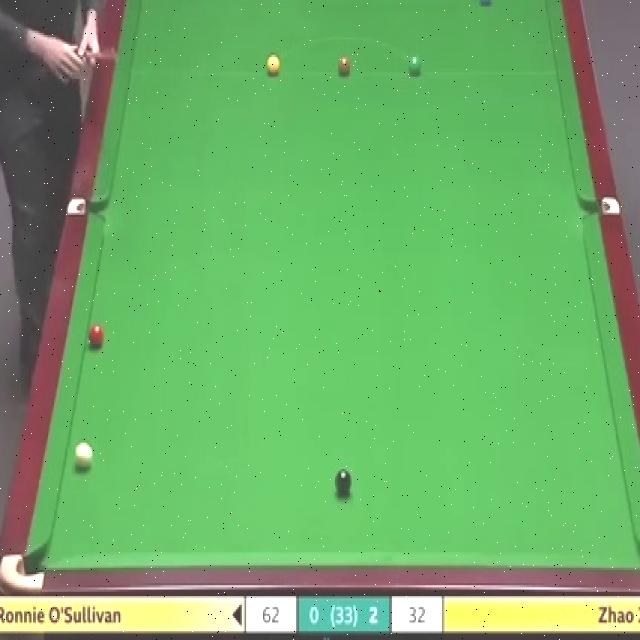black-ball: (335, 468, 350, 497)
blue-ball: (476, 0, 493, 7)
brown-ball: (337, 57, 351, 75)
green-ball: (407, 52, 423, 78)
red-ball: (89, 324, 105, 348)
white-ball: (73, 441, 94, 475)
yellow-ball: (265, 54, 281, 76)
